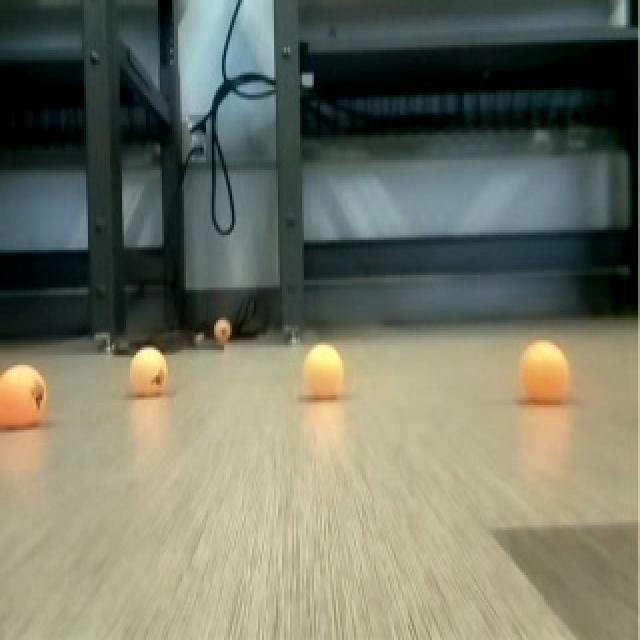oball: (516, 332, 572, 405), (0, 358, 50, 435), (296, 336, 352, 404), (124, 341, 174, 394), (212, 315, 234, 349)
